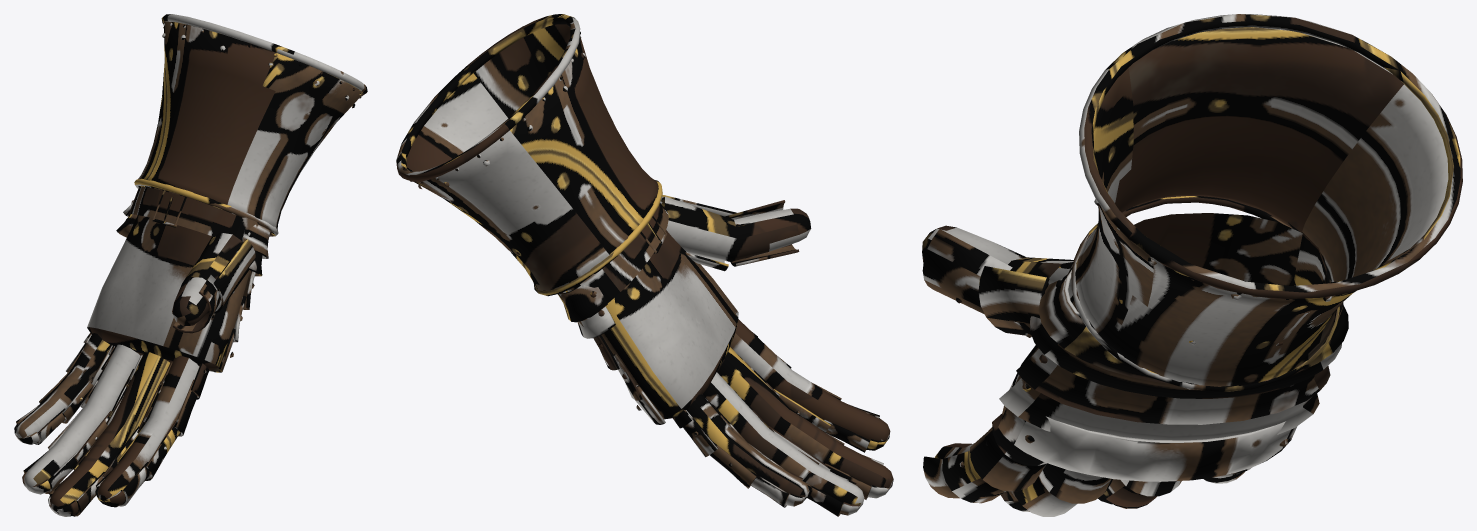
File: SM_EagleGauntlets_R_LOD1.fbx
3 views of the same model, side by side, from view 1: azimuth 30°, elevation 25°; view 2: azimuth 150°, elevation 25°; view 3: azimuth 270°, elevation 25° (orthographic). The views are drawn at different scales.
Visible parts, largest first — view 1: SM_EagleGauntlets_R_LOD1; view 2: SM_EagleGauntlets_R_LOD1; view 3: SM_EagleGauntlets_R_LOD1.
Part boxes in pixels (x1,y1,x2,y2): SM_EagleGauntlets_R_LOD1: [14, 14, 367, 516]; SM_EagleGauntlets_R_LOD1: [396, 14, 893, 516]; SM_EagleGauntlets_R_LOD1: [922, 14, 1462, 516].
Bounding box in the file's own units: 0.2575 × 0.2734 × 0.2019.
